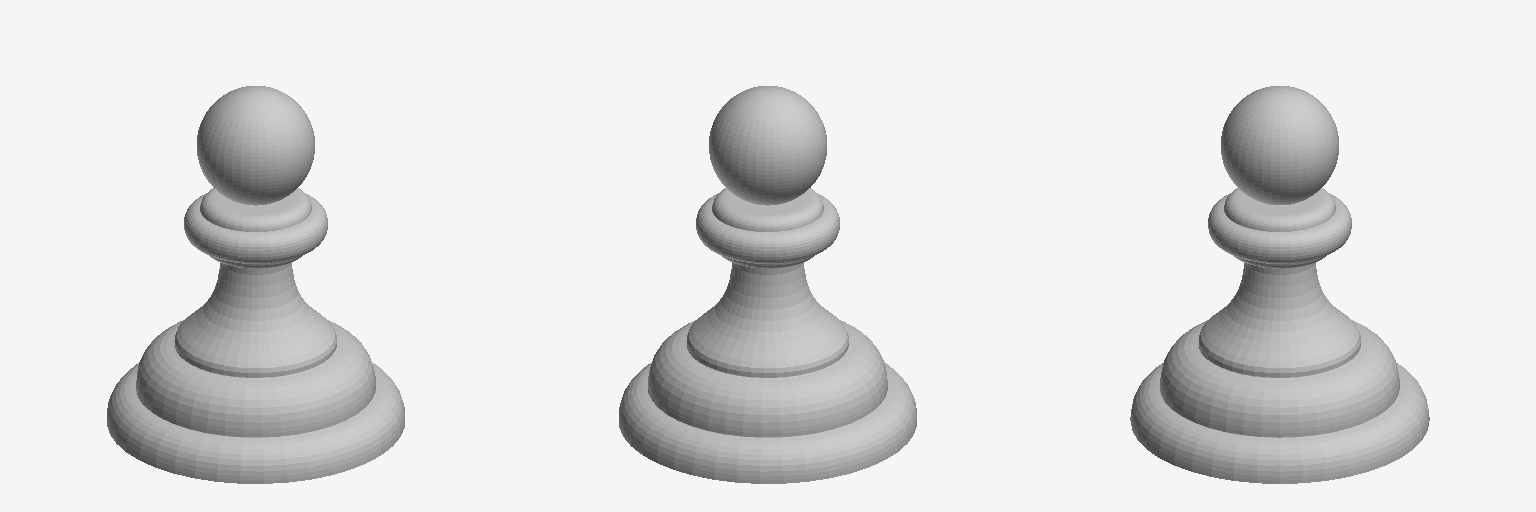
The model's file is finalsoliderrightup2.obj.
The picture shows the model from 3 angles: view 1: azimuth 30°, elevation 25°; view 2: azimuth 150°, elevation 25°; view 3: azimuth 270°, elevation 25°; orthographic projection.
Visible parts, largest first — view 1: white_pawn1_Mesh.003; view 2: white_pawn1_Mesh.003; view 3: white_pawn1_Mesh.003.
Part boxes in pixels (left/top/right/bottom): white_pawn1_Mesh.003: left=107, top=86, right=404, bottom=483; white_pawn1_Mesh.003: left=619, top=86, right=916, bottom=483; white_pawn1_Mesh.003: left=1130, top=86, right=1429, bottom=483.
Size of the model in its own units: 0.489 by 0.5954 by 0.489.